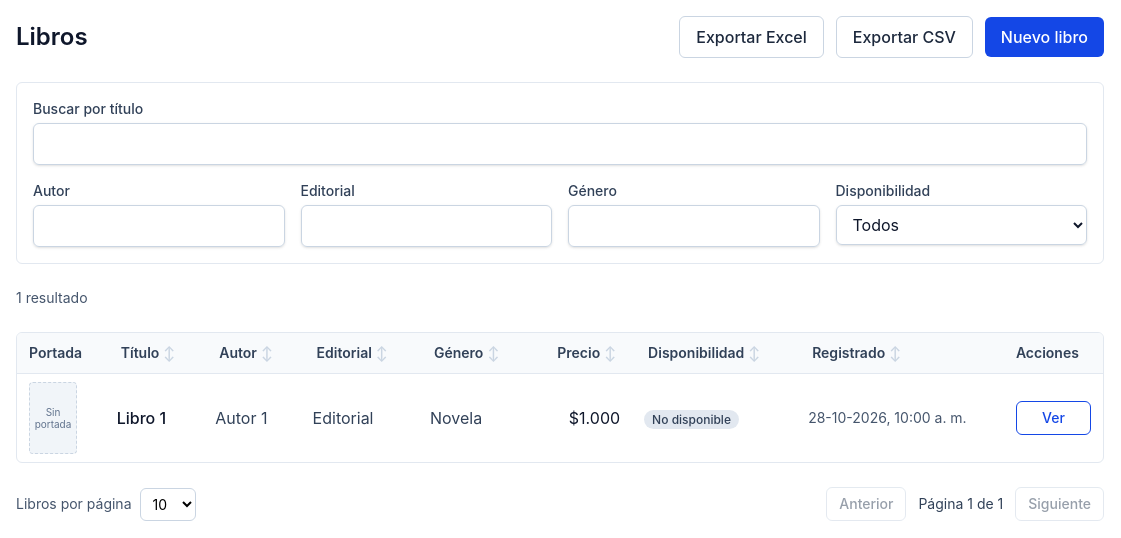
Scenario: BooksPage › export to CSV › says it is exporting and ignores a second click meanwhile
The width and height of the screenshot is (1121, 538).
Expected: the text "1 resultado" is shown, x1=16 y1=288 x2=88 y2=308
Click the button "Exportar CSV".
click(904, 37)  # box x1=836 y1=16 x2=973 y2=58
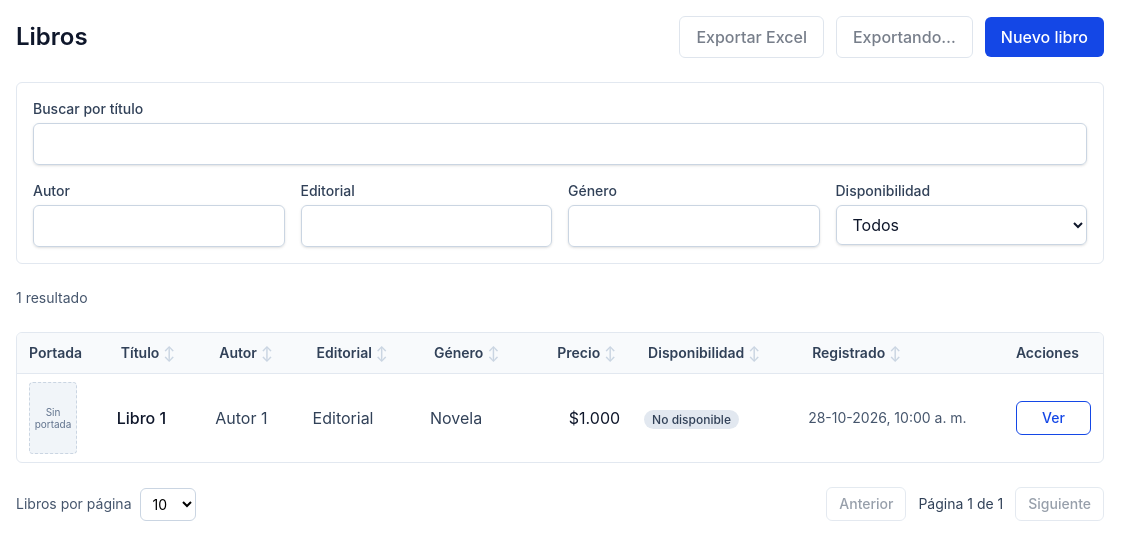
Expected: the button "Exportando…" is disabled
Click the button "Exportando…".
click(904, 37)  # box x1=836 y1=16 x2=973 y2=58
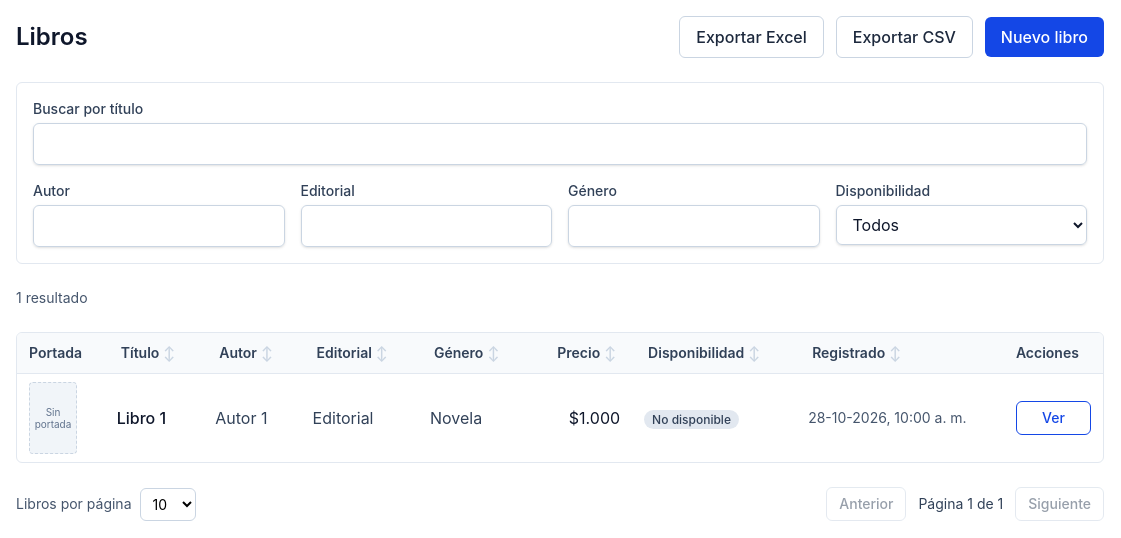
Expected: the button "Exportar CSV" is enabled, x1=836 y1=16 x2=973 y2=58
